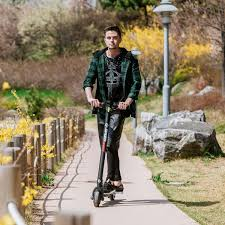kick_wheel: (93, 189, 101, 207)
